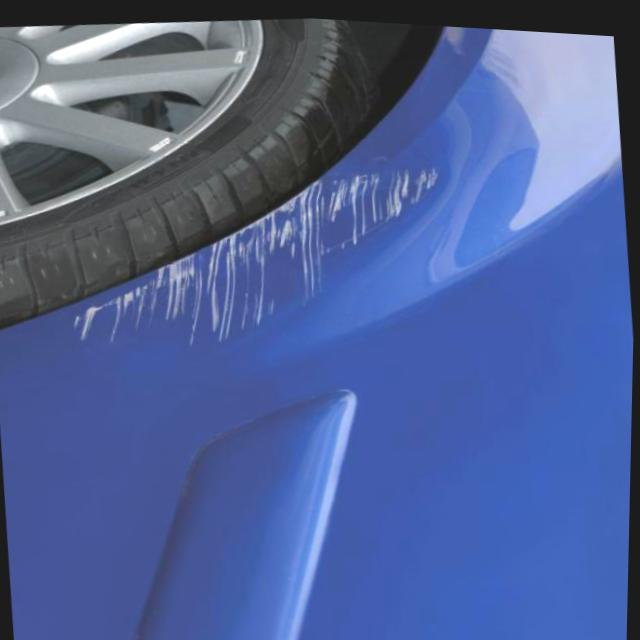Scratch: (55, 156, 463, 359)
